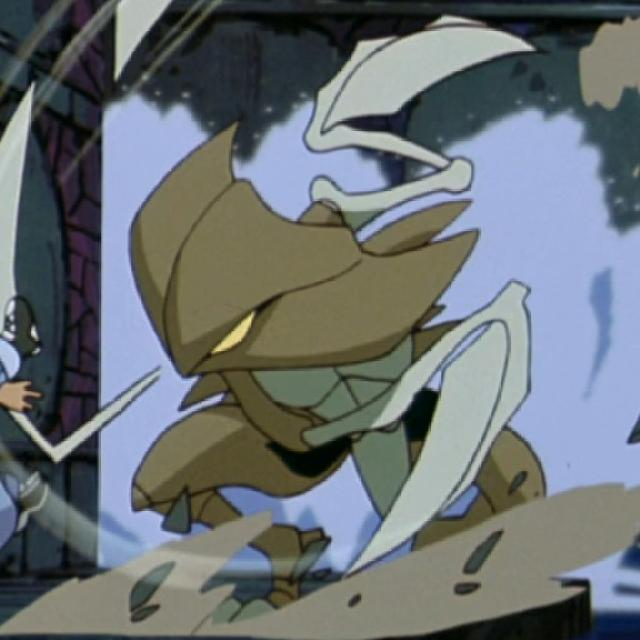Kabutops: (115, 12, 570, 611)
